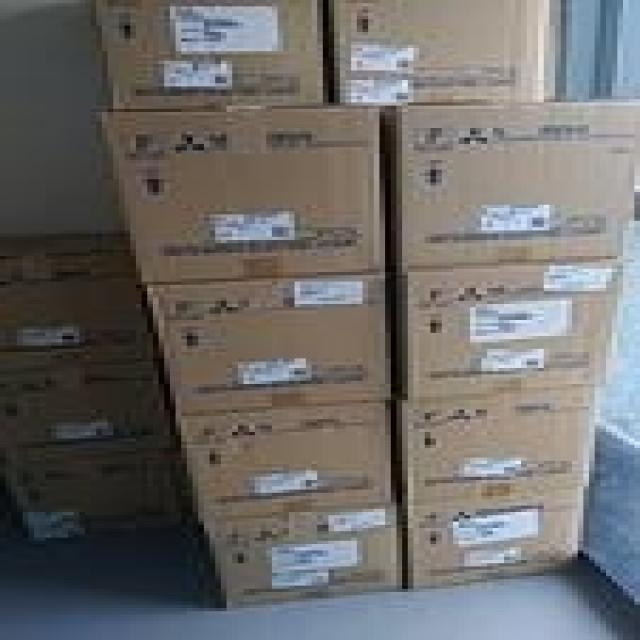box: (98, 106, 393, 279), (389, 102, 634, 271), (152, 275, 393, 415), (388, 261, 624, 398), (184, 402, 397, 521), (98, 3, 332, 111), (330, 1, 560, 103), (393, 390, 594, 505), (0, 234, 161, 371), (203, 503, 403, 611), (0, 446, 190, 550), (0, 360, 182, 461), (400, 492, 584, 591)
